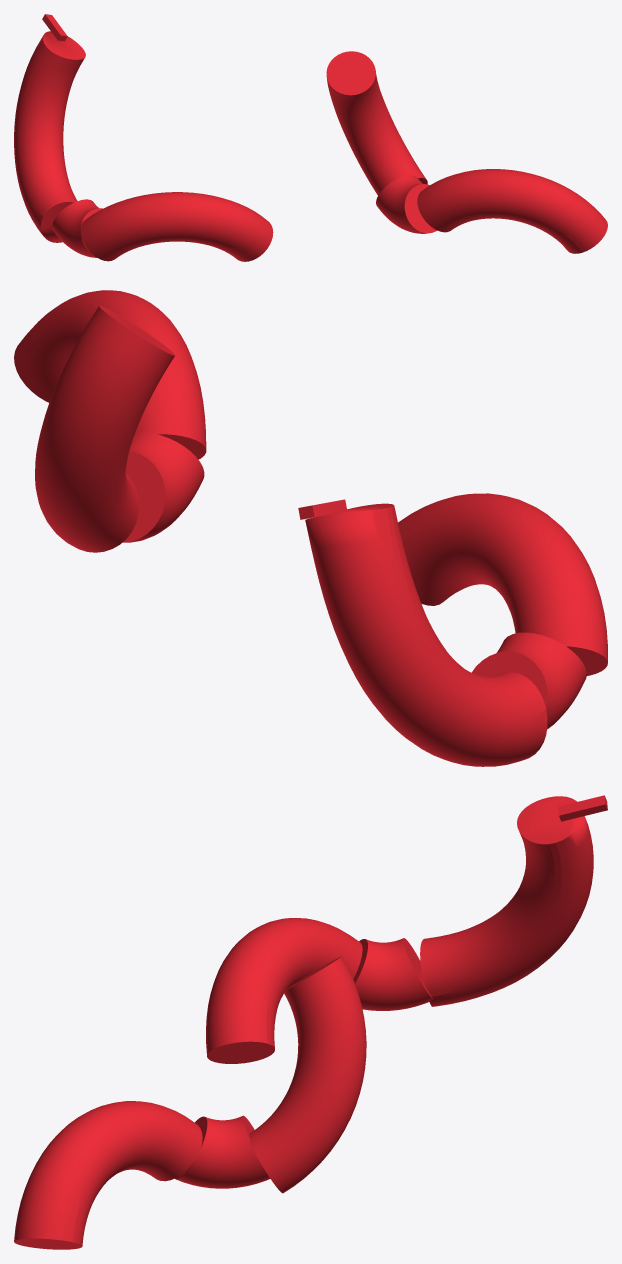
File: schema_model_2.glb
The picture shows the model from 3 angles, top to bottom: view 1: azimuth 30°, elevation 25°; view 2: azimuth 150°, elevation 25°; view 3: azimuth 270°, elevation 25°; orthographic projection. The views are drawn at different scales.
Parts seen in each view (by area): view 1: Cylinder.002, Cylinder.004, Cylinder.003, Cylinder, Cylinder.001, Cylinder.005; view 2: Cylinder.003, Cylinder, Cylinder.004, Cylinder.002, Cylinder.001, Cylinder.005; view 3: Cylinder.003, Cylinder, Cylinder.002, Cylinder.004, Cylinder.005, Cylinder.001, Cube.
Boxes of the visible parts, x1=… form: Cylinder.002: x1=417, y1=169, x2=607, y2=253; Cylinder.004: x1=80, y1=192, x2=273, y2=261; Cylinder.003: x1=14, y1=31, x2=85, y2=242; Cylinder: x1=326, y1=51, x2=427, y2=195; Cylinder.001: x1=376, y1=175, x2=436, y2=233; Cylinder.005: x1=52, y1=199, x2=102, y2=257; Cylinder.003: x1=305, y1=503, x2=547, y2=766; Cylinder: x1=35, y1=305, x2=174, y2=552; Cylinder.004: x1=398, y1=493, x2=607, y2=675; Cylinder.002: x1=14, y1=290, x2=206, y2=459; Cylinder.001: x1=123, y1=432, x2=204, y2=542; Cylinder.005: x1=471, y1=632, x2=586, y2=729; Cylinder.003: x1=420, y1=796, x2=593, y2=1006; Cylinder: x1=249, y1=956, x2=366, y2=1193; Cylinder.002: x1=14, y1=1101, x2=202, y2=1249; Cylinder.004: x1=206, y1=918, x2=362, y2=1063; Cylinder.005: x1=353, y1=938, x2=432, y2=1010; Cylinder.001: x1=175, y1=1115, x2=270, y2=1188; Cube: x1=558, y1=795, x2=607, y2=821.
Size of the model in its own units: 5.15 by 2 by 4.5.
